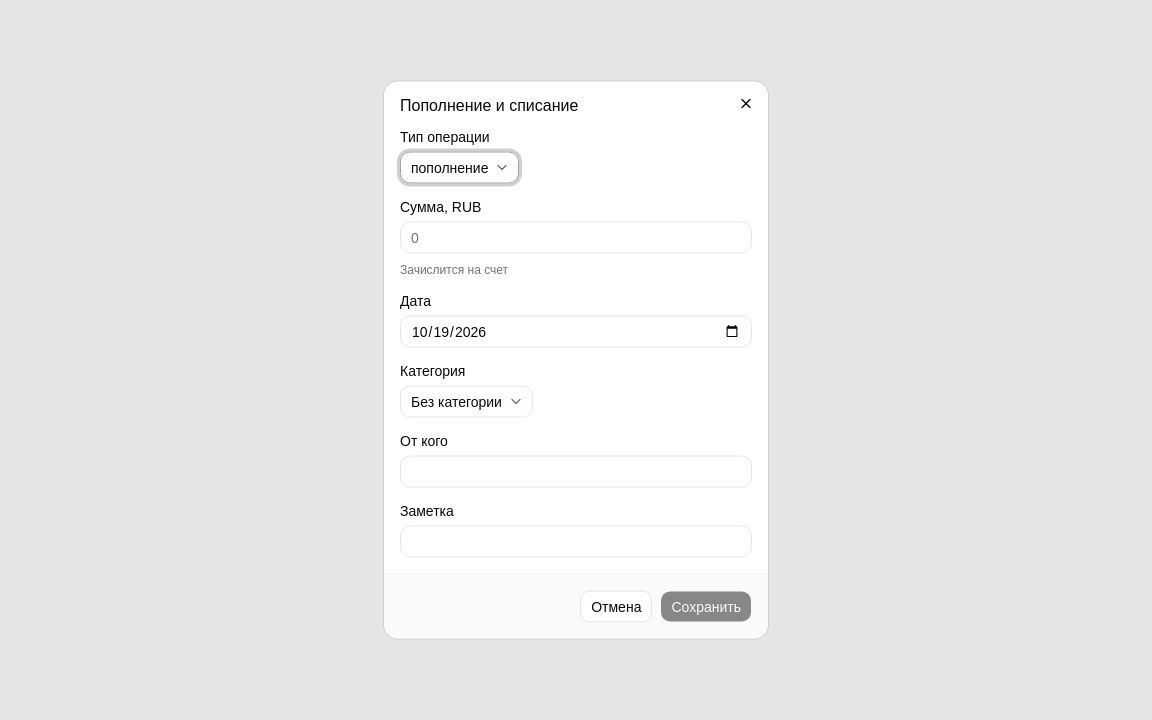
Scenario: CashDialog: a sum too large to record › says it is too large rather than asking for a positive number
This screenshot has width=1152, height=720.
Type "20000000000000" into the field labelled "Сумма, RUB".
click(576, 238); type("20000000000000")  # box [400,222,752,254]
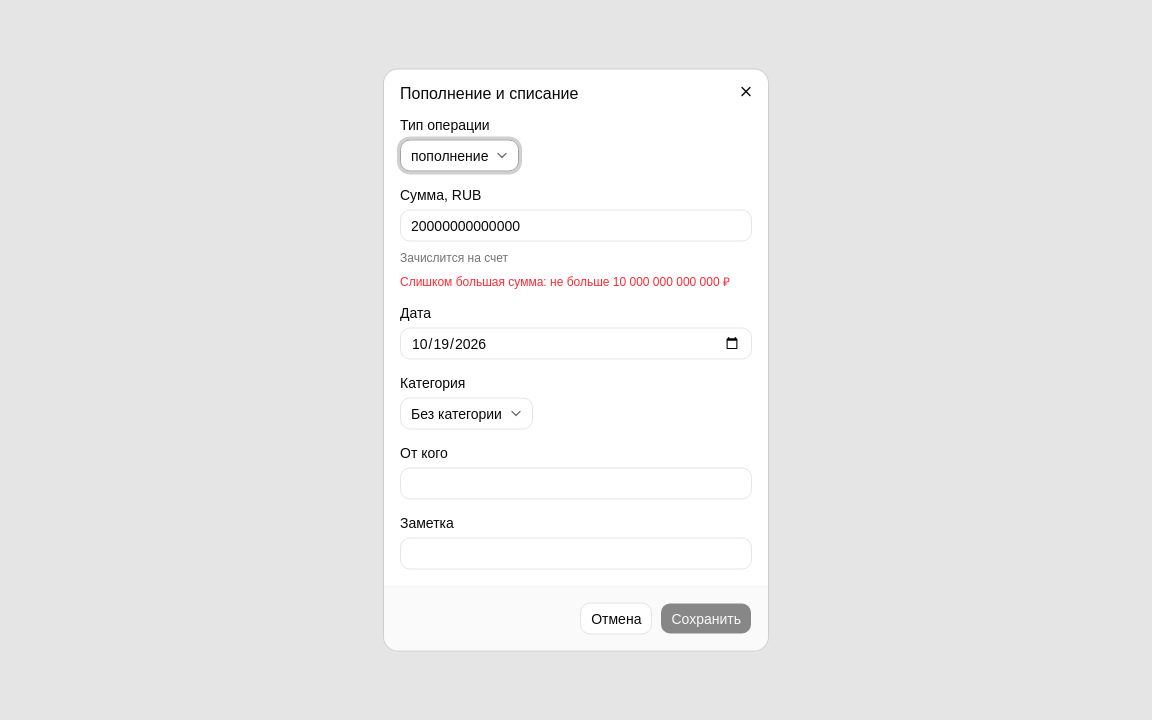
expect the button "Сохранить" is disabled: met, box [660,602,752,634]
expect the text "Слишком большая сумма: не больше 10 000 000 000 000 ₽" is shown: met, box [400,274,752,290]
